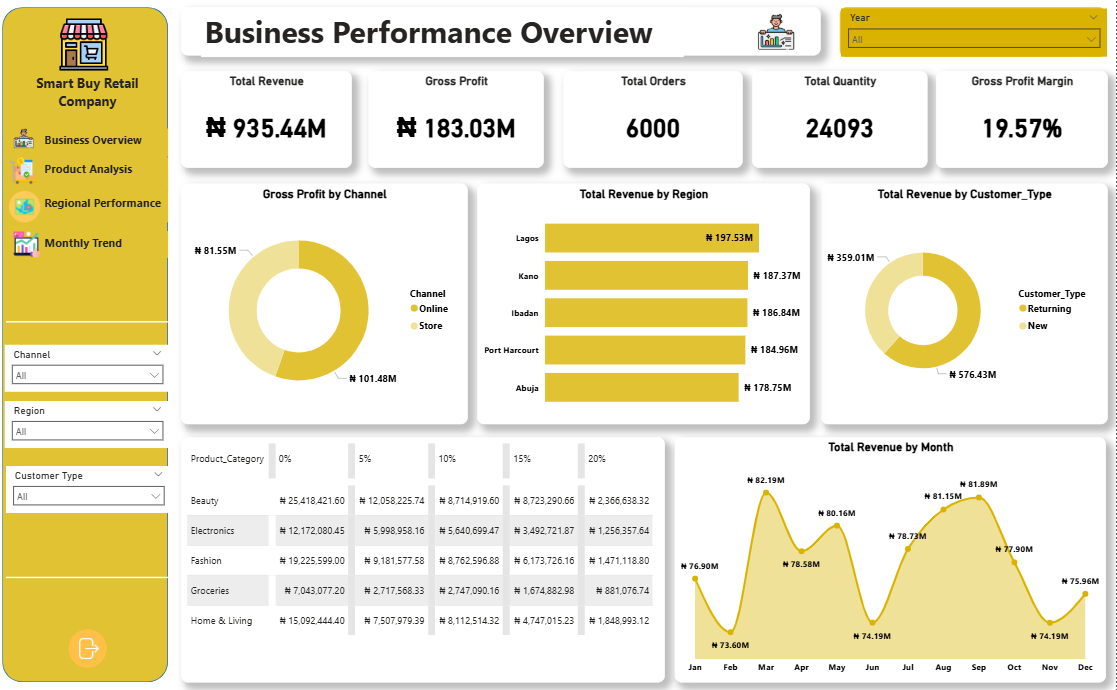

Layout of this report page (visuals, bound fields, positions):
{"tool":"powerbi","page":{"name":"Business_Overview","canvas":[1600,1000],"ordinal":0},"visuals":[{"type":"card","title":"Total Revenue","fields":{"Values":["Measure_Table.Total Revenue"]},"box":[264.3,107.1,243.6,138.2],"z":0},{"type":"card","title":"Gross Profit","fields":{"Values":["Measure_Table.Gross Profit"]},"box":[532.1,107.1,250.5,138.2],"z":1000},{"type":"card","title":"Total Orders","fields":{"Values":["Measure_Table.Total Orders"]},"box":[810.3,107.1,255.7,138.2],"z":2000},{"type":"card","title":"Total Quantity","fields":{"Values":["Measure_Table.Total_Quantity"]},"box":[1079.8,107.1,250.5,138.2],"z":3000},{"type":"card","title":"Gross Profit Margin","fields":{"Values":["Measure_Table.Gross Profit Margin"]},"box":[1342.4,107.1,245.3,138.2],"z":4000},{"type":"donutChart","fields":{"Category":["Channel.Channel"],"Y":["Measure_Table.Gross Profit"]},"box":[264.3,267.8,409.5,343.8],"z":5000},{"type":"donutChart","fields":{"Category":["Customer.Customer_Type"],"Y":["Measure_Table.Total Revenue"]},"box":[1178.3,267.8,409.5,343.8],"z":6000},{"type":"clusteredBarChart","fields":{"Category":["Region.Region"],"Y":["Measure_Table.Total Revenue"]},"box":[687.6,267.8,475.1,343.8],"z":7000},{"type":"pivotTable","fields":{"Rows":["Product.Product_Category"],"Values":["Measure_Table.Gross Profit"],"Columns":["Transaction.Discount Band"]},"box":[264.3,630.4,691.1,350],"z":8000},{"type":"shape","box":[8.6,15.5,236.7,964.1],"z":9000},{"type":"shape","box":[264.3,15.5,914,69.1],"z":10000},{"type":"shape","box":[1205.9,15.5,380.1,70.8],"z":11000},{"type":"textbox","box":[293.7,15.5,689.4,70.8],"z":12000},{"type":"textbox","box":[32.8,107.1,197,82.9],"z":13000},{"type":"image","box":[63.9,32.8,122.7,74.3],"z":14000},{"type":"image","box":[69.1,901.9,122.7,60.5],"z":15000},{"type":"shape","box":[13.8,758.5,236.7,143.4],"z":16000},{"type":"slicer","fields":{"Values":["Channel.Channel"]},"box":[12.1,497.6,236.7,67.4],"z":17000},{"type":"slicer","fields":{"Values":["Customer.Customer_Type"]},"box":[13.8,672.1,236.7,67.4],"z":18000},{"type":"slicer","fields":{"Values":["Region.Region"]},"box":[12.1,578.8,236.7,67.4],"z":19000},{"type":"shape","box":[13.8,419.8,236.7,91.6],"z":20000},{"type":"textbox","box":[63.9,190,181.4,39.7],"z":21000},{"type":"textbox","box":[63.9,229.8,181.4,48.4],"z":22000},{"type":"textbox","box":[63.9,278.2,181.4,44.9],"z":23000},{"type":"textbox","box":[63.9,335.2,181.4,38],"z":24000},{"type":"image","box":[13.8,190,50.1,27.6],"z":25000},{"type":"image","box":[1066,24.2,96.8,51.8],"z":26000},{"type":"image","box":[10.4,229.8,55.3,38],"z":27000},{"type":"image","box":[15.5,278.2,50.1,44.9],"z":28000},{"type":"image","box":[17.3,335.2,51.8,38],"z":29000},{"type":"lineChart","title":"Total Revenue by Month","fields":{"Category":["DateTable.Short Month"],"Y":["Measure_Table.Total Revenue"]},"box":[969.6,630.4,616.1,350],"z":29001},{"type":"slicer","fields":{"Values":["DateTable.Year"]},"box":[1207.7,17.3,380.1,69.1],"z":29002}]}

Visuals, with their boxes on the page's 1600x1000 design canvas (x1, y1, x2, y2). These are canvas units, not pixel positions in the 1117x690 screenshot, which may show the page scaled, cropped or inside an application window:
"Total Revenue" card: 264, 107, 508, 245
"Gross Profit" card: 532, 107, 783, 245
"Total Orders" card: 810, 107, 1066, 245
"Total Quantity" card: 1080, 107, 1330, 245
"Gross Profit Margin" card: 1342, 107, 1588, 245
donutChart - Channel.Channel x Measure_Table.Gross Profit: 264, 268, 674, 612
donutChart - Customer.Customer_Type x Measure_Table.Total Revenue: 1178, 268, 1588, 612
clusteredBarChart - Region.Region x Measure_Table.Total Revenue: 688, 268, 1163, 612
pivotTable - Product.Product_Category x Measure_Table.Gross Profit: 264, 630, 955, 980
shape: 9, 16, 245, 980
shape: 264, 16, 1178, 85
shape: 1206, 16, 1586, 86
textbox: 294, 16, 983, 86
textbox: 33, 107, 230, 190
image: 64, 33, 187, 107
image: 69, 902, 192, 962
shape: 14, 758, 250, 902
slicer - Channel.Channel: 12, 498, 249, 565
slicer - Customer.Customer_Type: 14, 672, 250, 740
slicer - Region.Region: 12, 579, 249, 646
shape: 14, 420, 250, 511
textbox: 64, 190, 245, 230
textbox: 64, 230, 245, 278
textbox: 64, 278, 245, 323
textbox: 64, 335, 245, 373
image: 14, 190, 64, 218
image: 1066, 24, 1163, 76
image: 10, 230, 66, 268
image: 16, 278, 66, 323
image: 17, 335, 69, 373
"Total Revenue by Month" lineChart: 970, 630, 1586, 980
slicer - DateTable.Year: 1208, 17, 1588, 86
